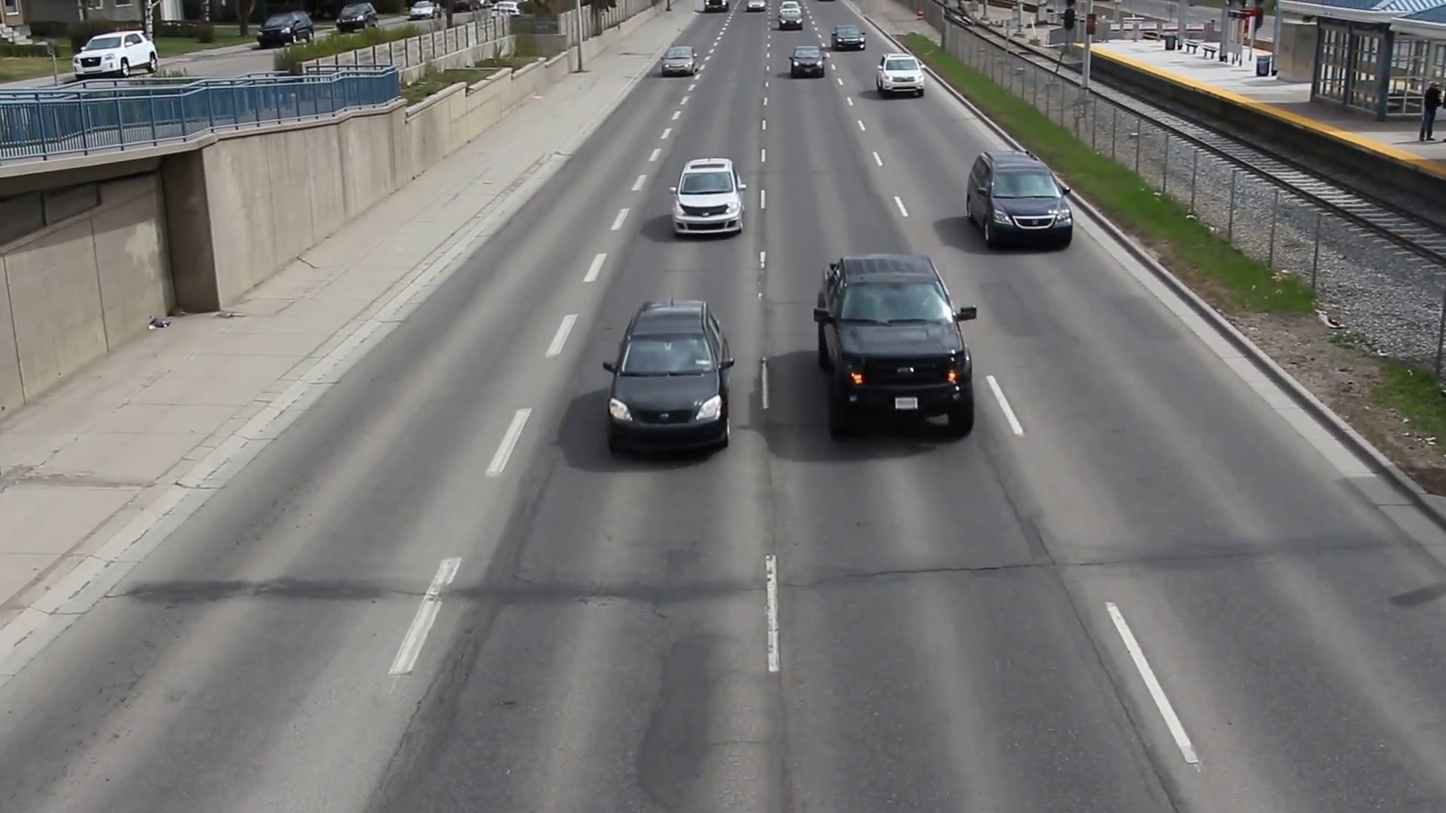car: (812, 253, 987, 447), (605, 294, 734, 458), (964, 143, 1076, 259), (669, 157, 747, 237), (878, 49, 930, 104)
